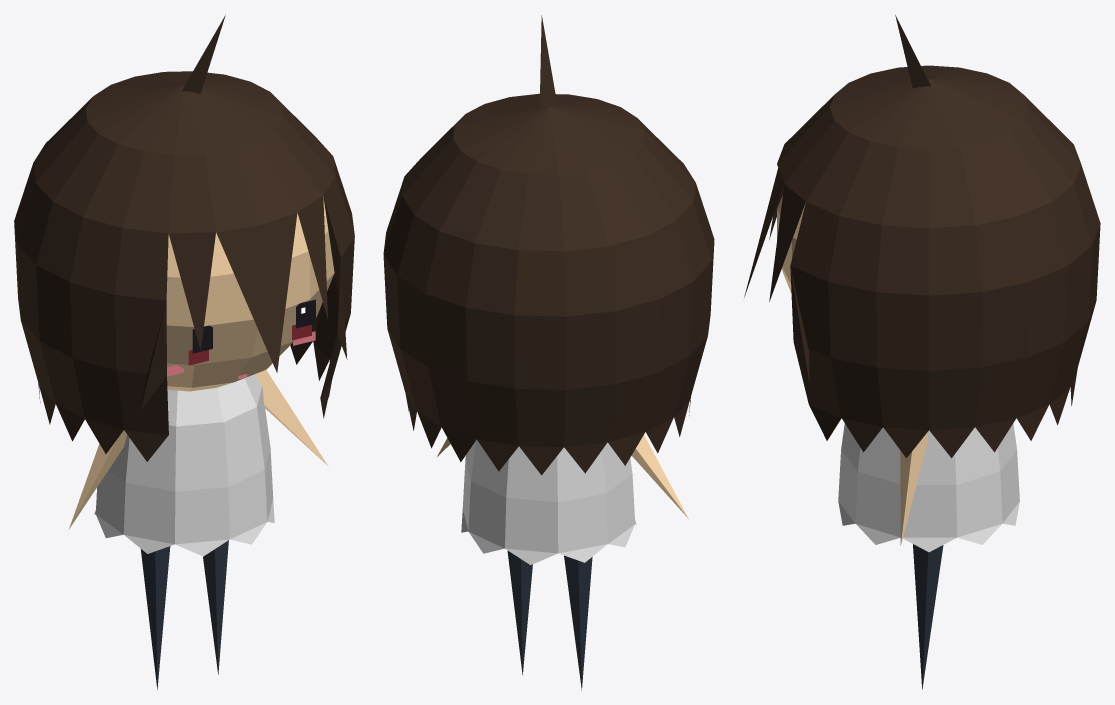
Rendered from lp_short.glb.
The picture shows the model from 3 angles, left to right: view 1: azimuth 30°, elevation 25°; view 2: azimuth 150°, elevation 25°; view 3: azimuth 270°, elevation 25°; orthographic projection. The views are drawn at different scales.
Parts seen in each view (by area): view 1: hair, cloth, skin, legL, legR, armR, armL, eye; view 2: hair, cloth, legL, legR, armL; view 3: hair, cloth, legR, armR, skin.
Boxes of the visible parts, bbox=[...] form: hair: bbox=[14, 15, 354, 461]; cloth: bbox=[94, 374, 274, 556]; skin: bbox=[166, 196, 334, 391]; legL: bbox=[140, 546, 170, 689]; legR: bbox=[203, 540, 228, 674]; armR: bbox=[256, 370, 328, 466]; armL: bbox=[68, 430, 127, 529]; eye: bbox=[192, 299, 315, 353]; hair: bbox=[383, 15, 714, 475]; cloth: bbox=[461, 439, 636, 565]; legL: bbox=[564, 555, 592, 690]; legR: bbox=[507, 550, 532, 674]; armL: bbox=[631, 435, 688, 518]; hair: bbox=[744, 15, 1100, 458]; cloth: bbox=[838, 423, 1019, 552]; legR: bbox=[913, 544, 943, 689]; armR: bbox=[900, 433, 927, 545]; skin: bbox=[777, 195, 805, 293].
Size of the model in its own units: 0.604 by 1.31 by 0.629.
